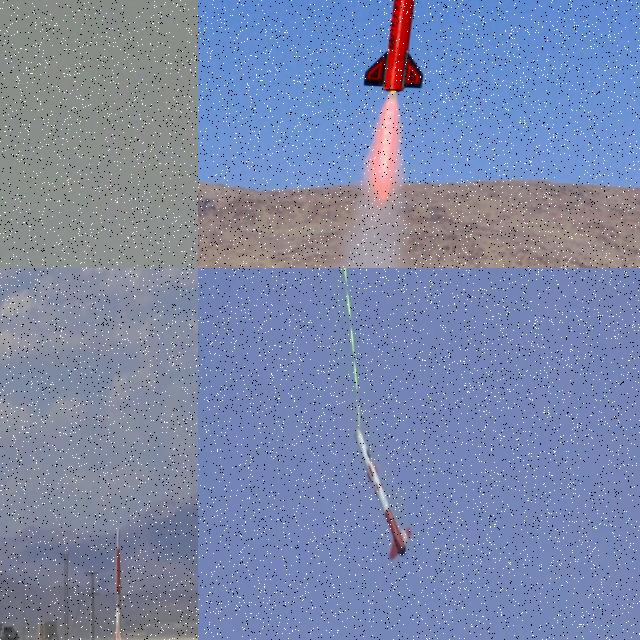Rocket: (354, 425, 416, 562), (361, 0, 426, 93), (113, 527, 123, 640)
